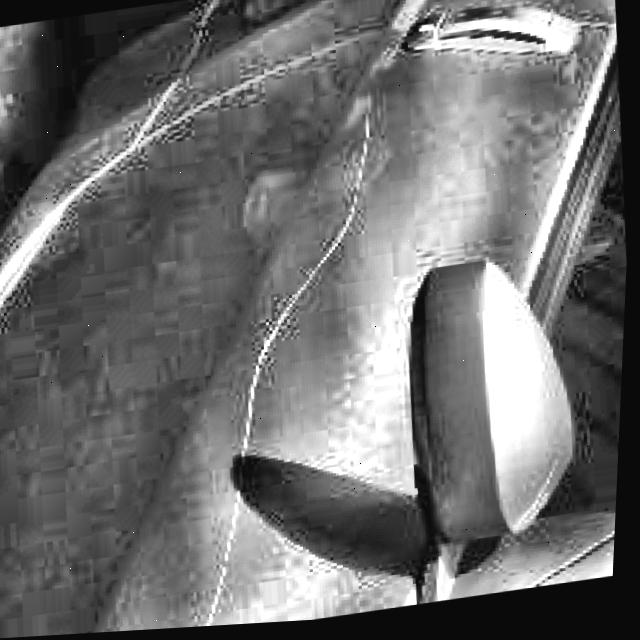door_scratch: (193, 428, 263, 627), (230, 265, 314, 426), (315, 79, 385, 255)
